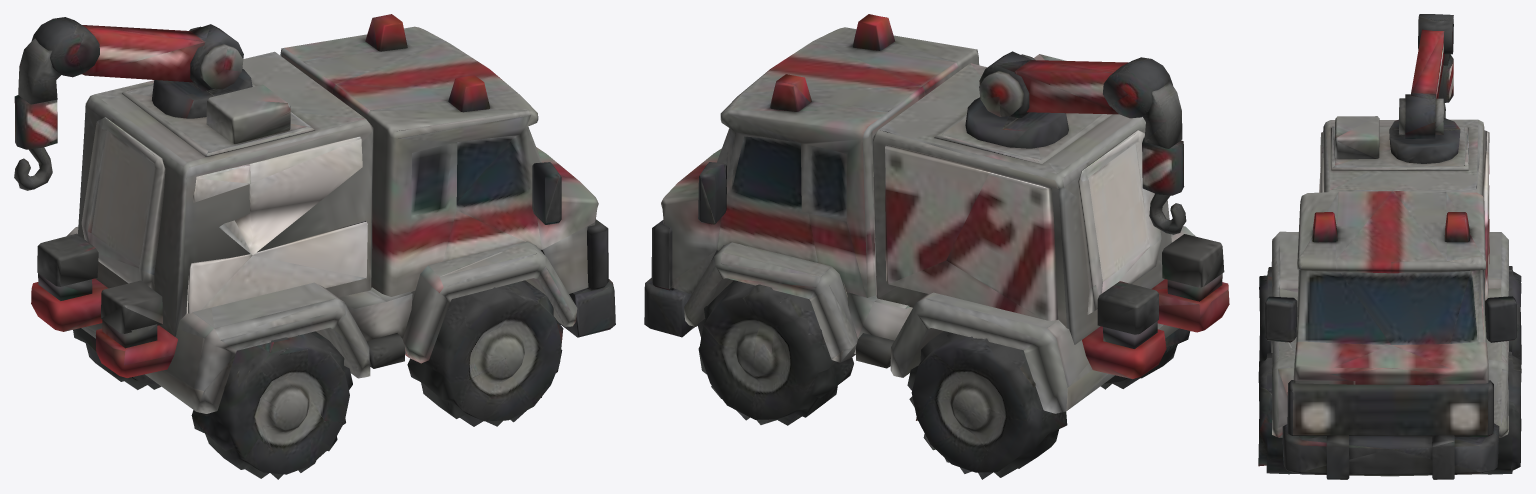
File: repair_truck.glb
3 views of the same model, side by side, from view 1: azimuth 30°, elevation 25°; view 2: azimuth 150°, elevation 25°; view 3: azimuth 270°, elevation 25° (orthographic). The views are drawn at different scales.
Visible parts, largest first — view 1: hull; view 2: hull; view 3: hull.
Part boxes in pixels (left/top/right/bottom): hull: left=14, top=14, right=615, bottom=479; hull: left=644, top=14, right=1229, bottom=479; hull: left=1258, top=14, right=1521, bottom=479.
Size of the model in its own units: 1 by 0.7505 by 0.5515.
1 material, 1 textured.
